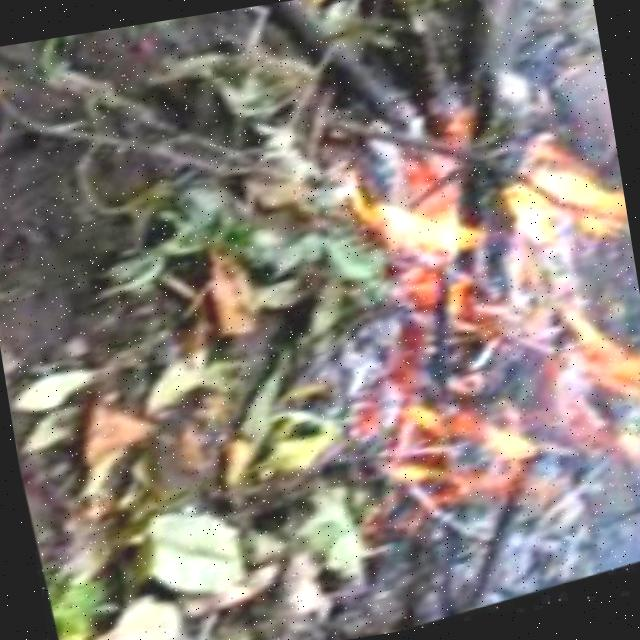fire: (327, 92, 640, 559)
